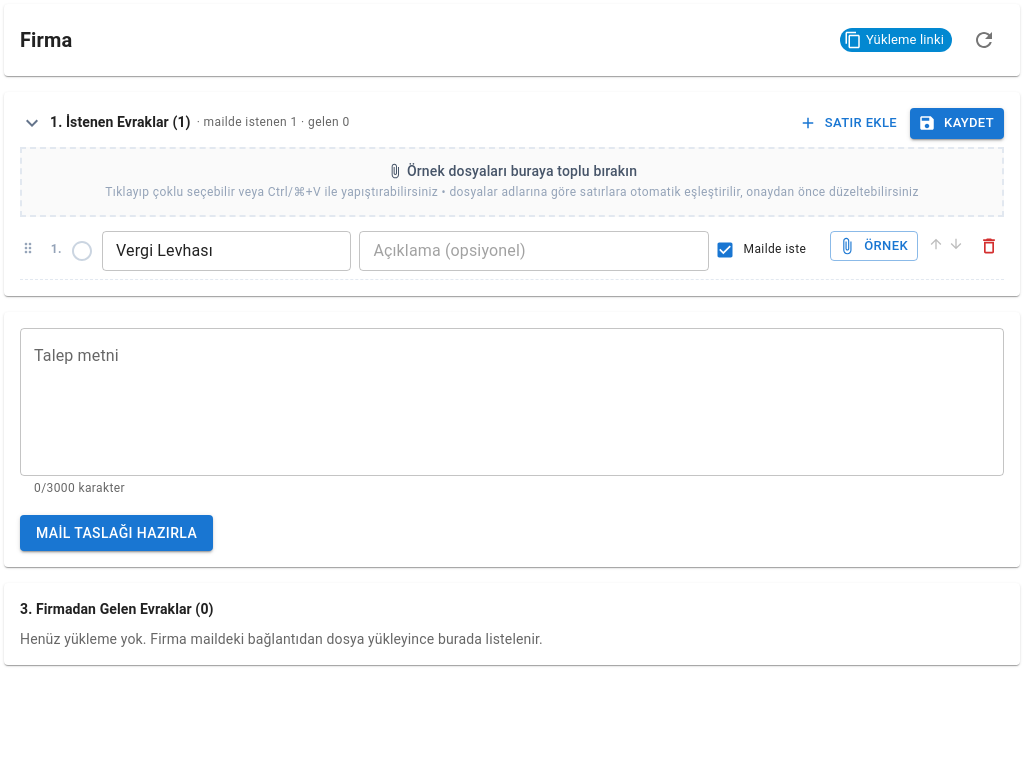
Test case: kayıt başarısızsa taslak açılmaz, metin ekranda kalır
Type "Korunacak metin" into the text box labelled "Talep metni" at (512, 402), box [34, 344, 990, 459]
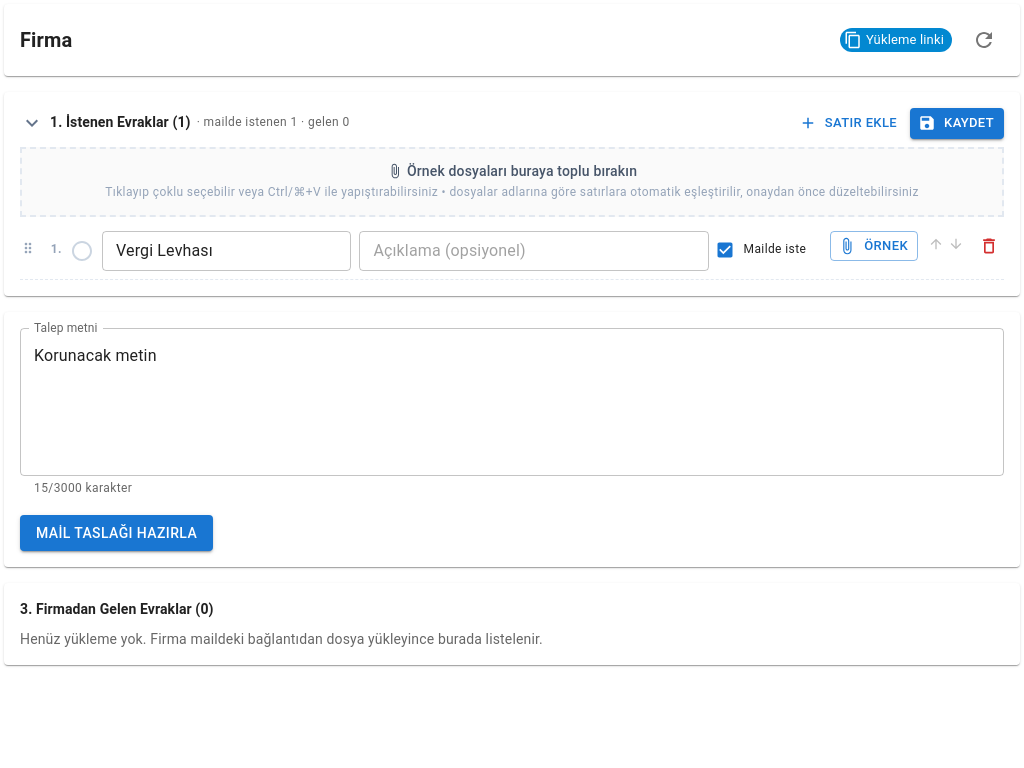
Click the button "Mail Taslağı Hazırla" at (117, 533), box [20, 515, 213, 551]
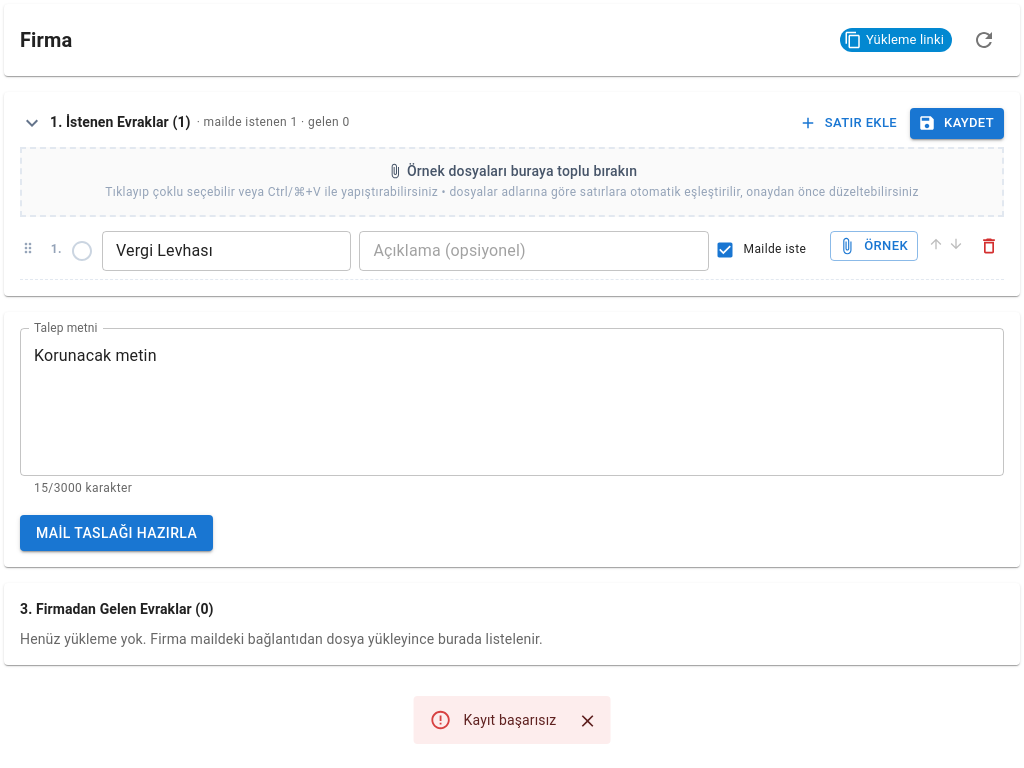
Now the text "Kayıt başarısız" is shown, box [464, 712, 556, 728]
